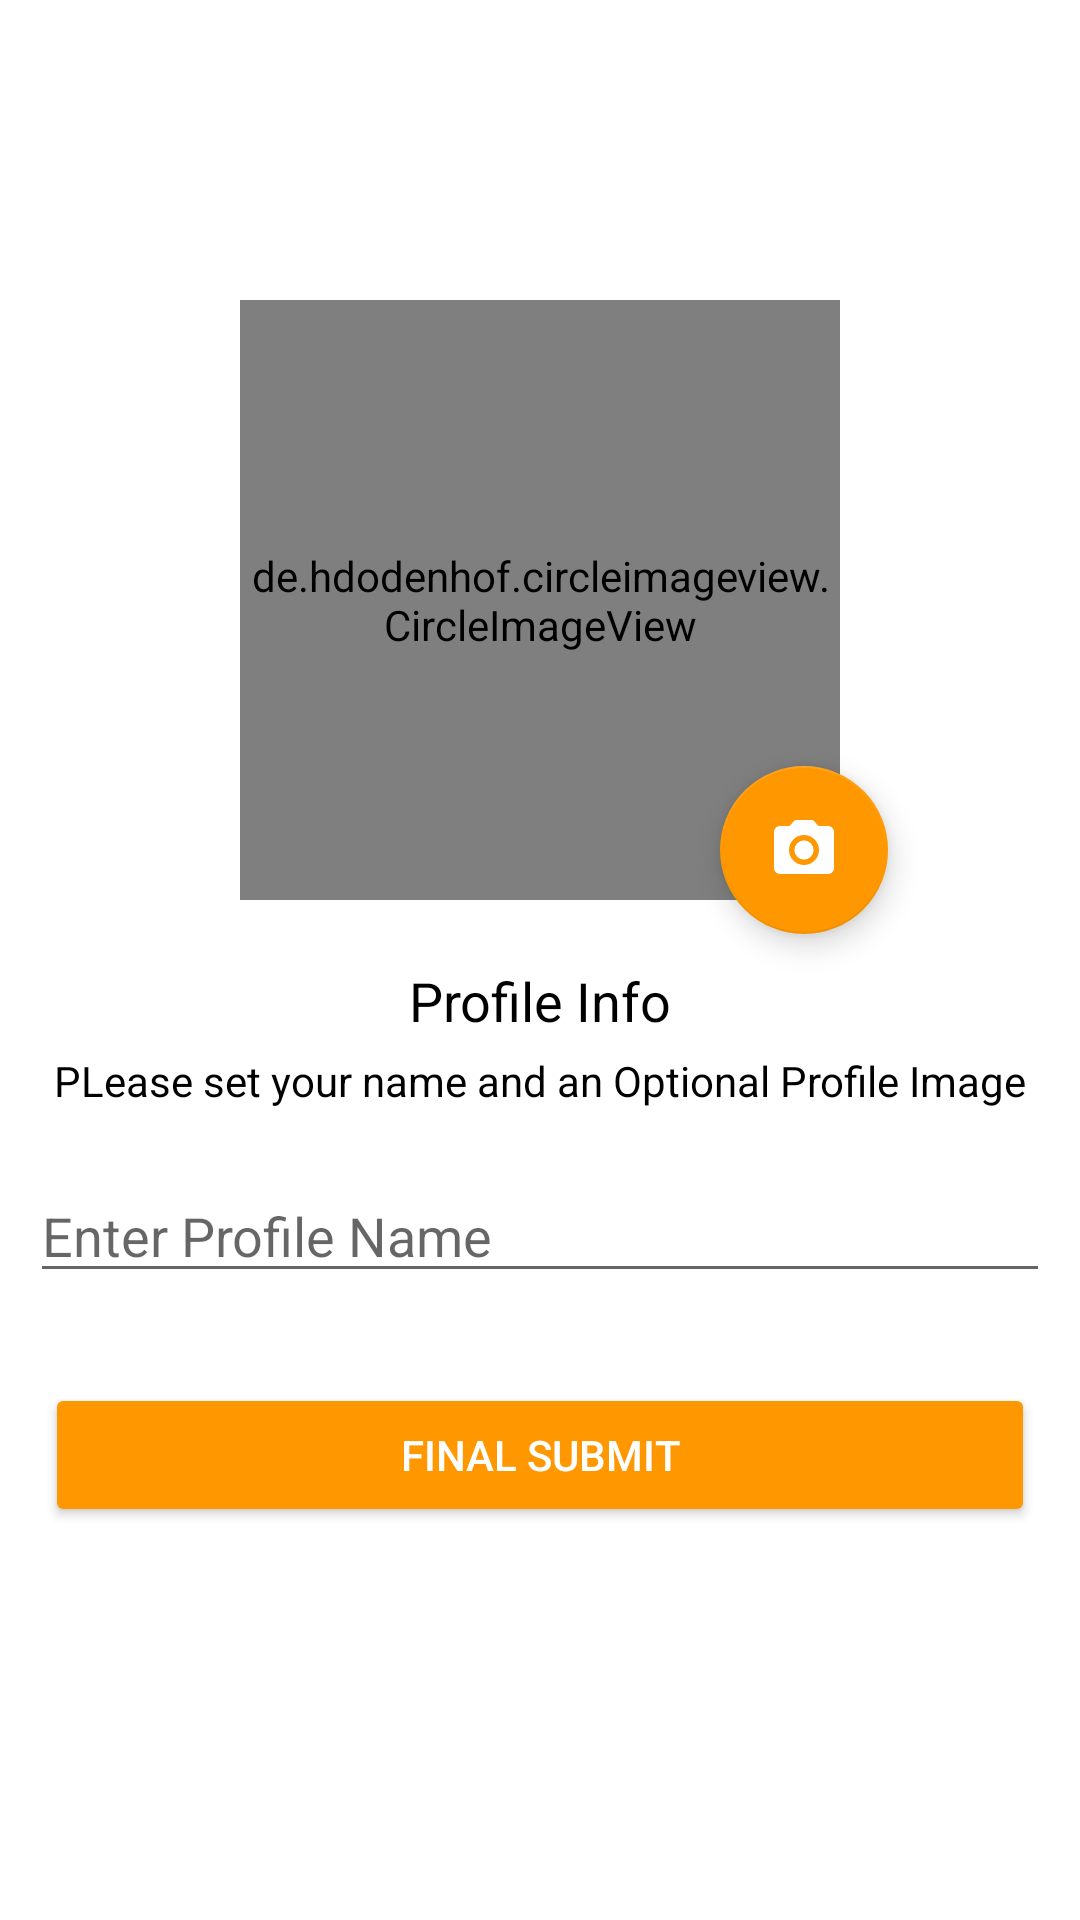

Icons on this 1080x1920 Android screen, each with the point to tap as [x,y]:
camera: [804,850]
